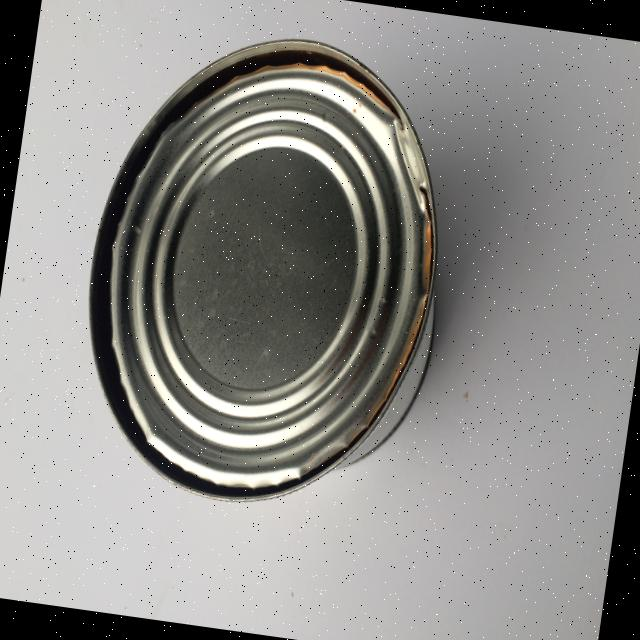metal: (61, 14, 472, 528)
